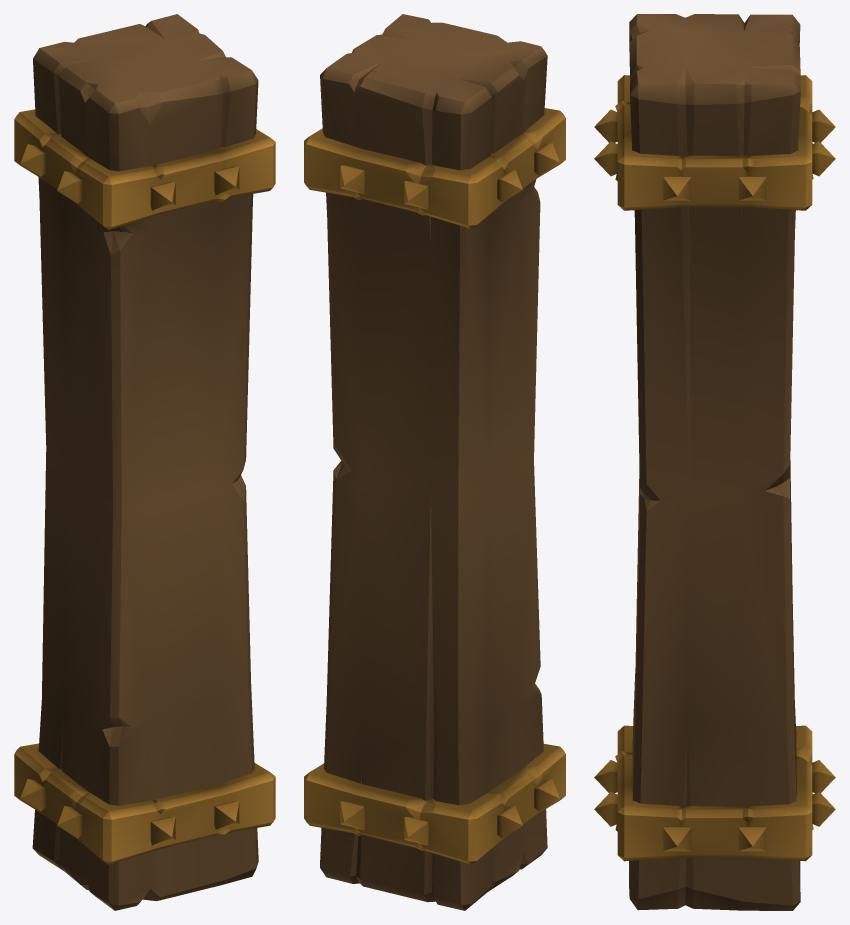
Rendered from obj_woodenBeam_B.FBX.
3 renders of one model, left to right at view 1: azimuth 30°, elevation 25°; view 2: azimuth 150°, elevation 25°; view 3: azimuth 270°, elevation 25°, orthographic. The views are drawn at different scales.
Visible parts, largest first — view 1: obj_woodenBeam_B; view 2: obj_woodenBeam_B; view 3: obj_woodenBeam_B.
Part boxes in pixels (x1,y1,x2,y2): obj_woodenBeam_B: (14,14,275,910); obj_woodenBeam_B: (304,14,565,910); obj_woodenBeam_B: (594,14,835,910).
Bounding box in the file's own units: 1.66 × 6.03 × 1.6.
